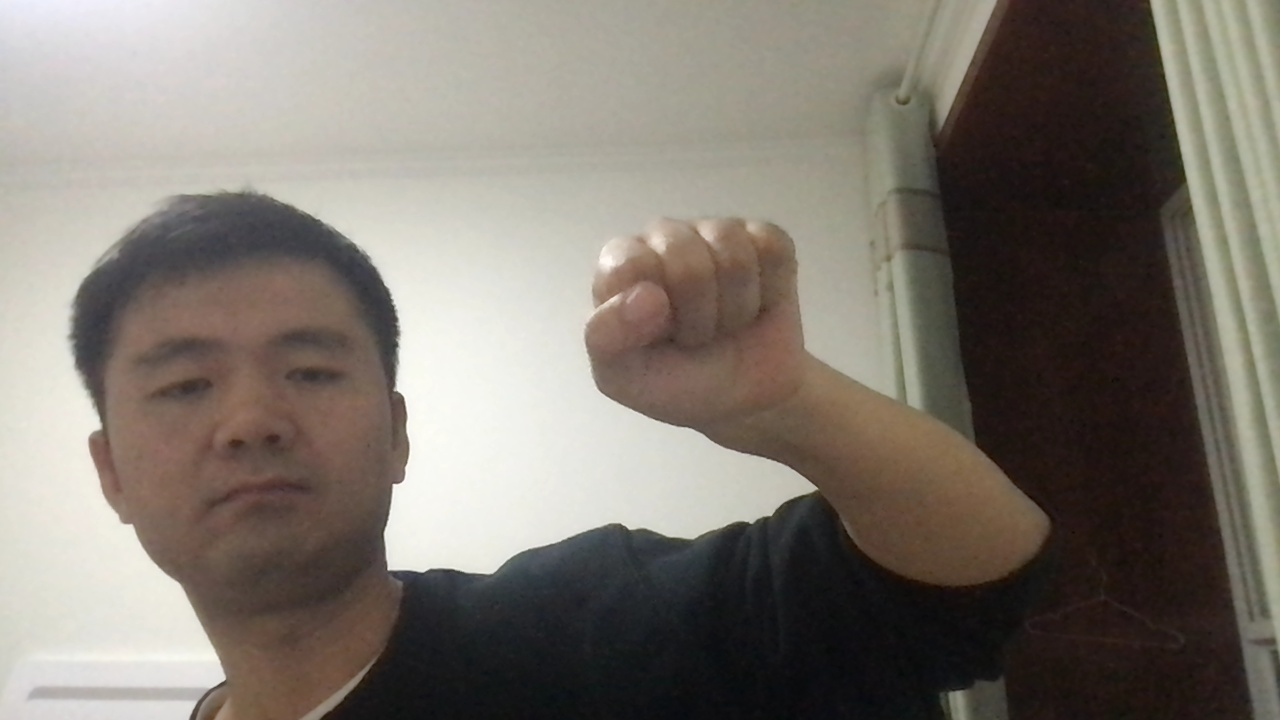ok: (559, 190, 846, 449)
